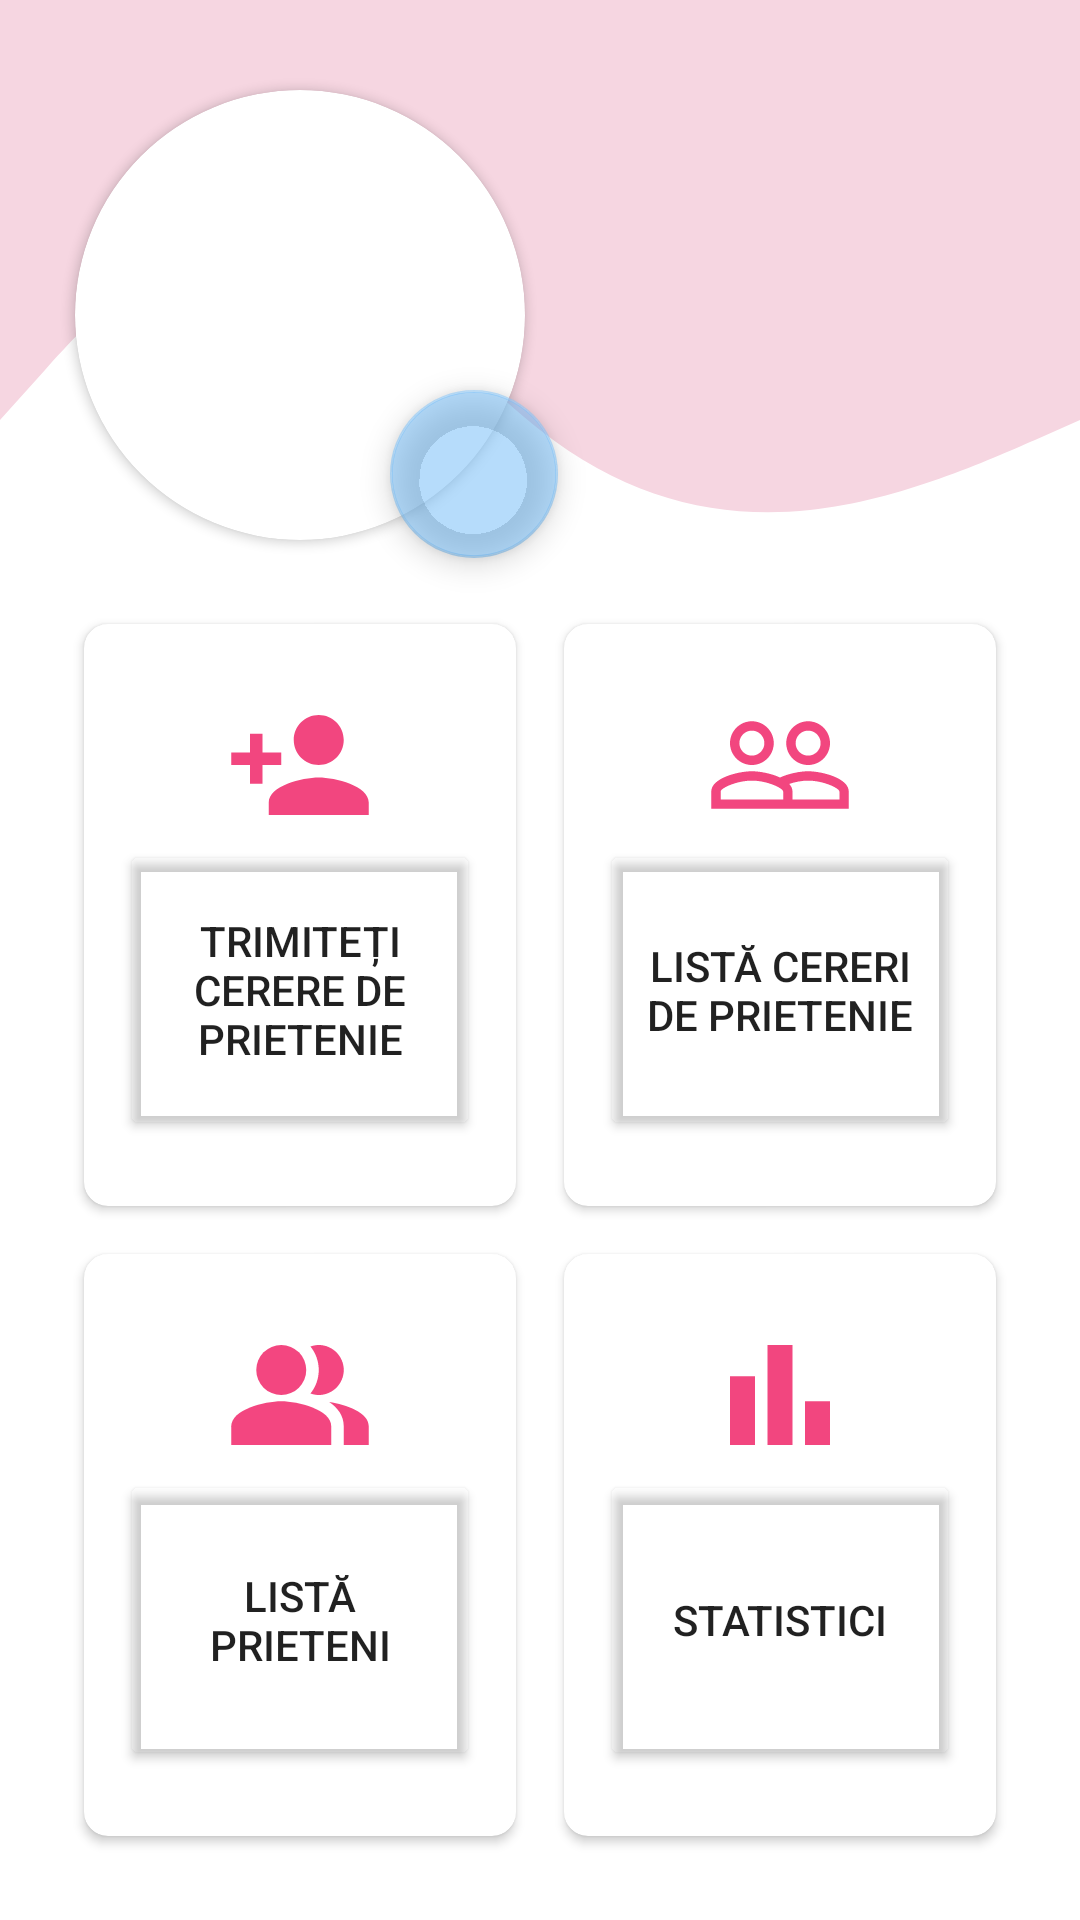

Screen size 1080 × 1920. Icon name, then its center in pixels as (x=x, y=y):
trimite cerere prietenie: (x=300, y=765)
